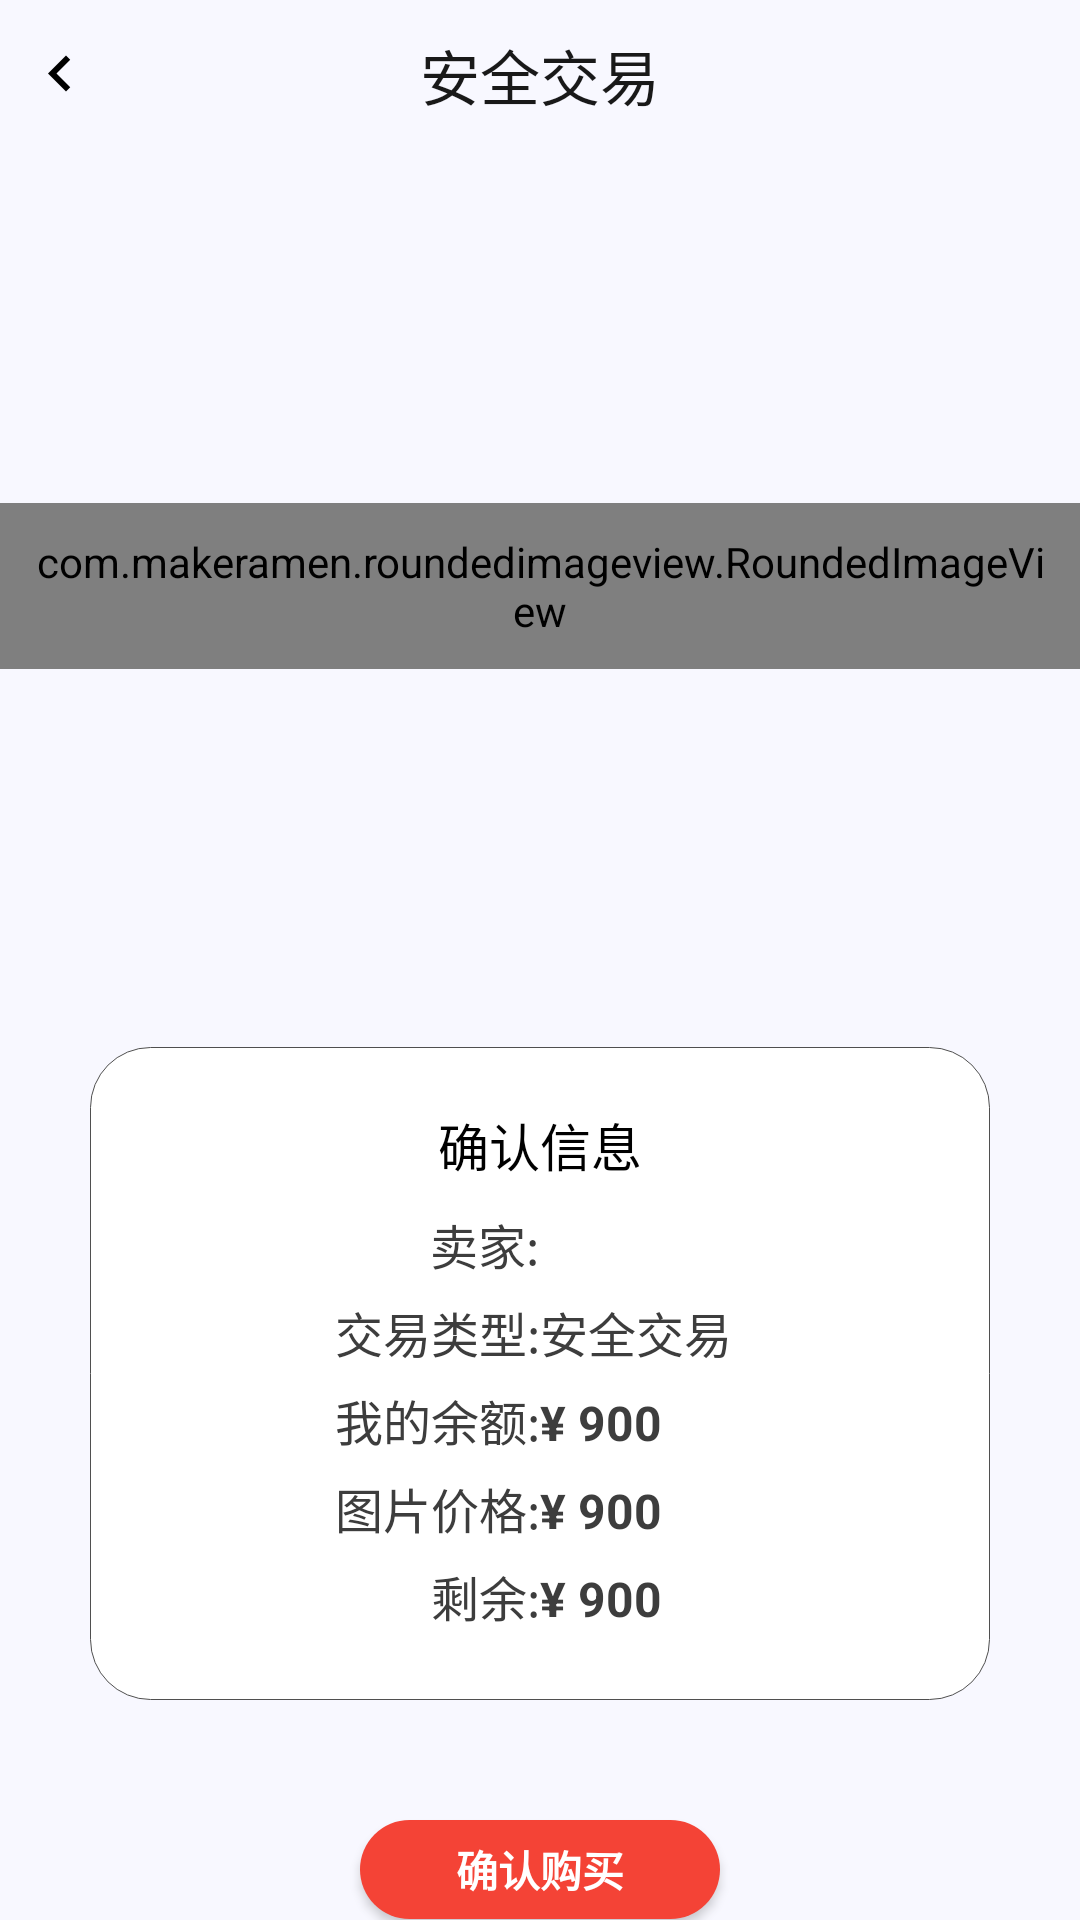

Icon click points for this 1080 × 1920 phone screenshot, format (x=x, y=y):
back: (x=59, y=73)
